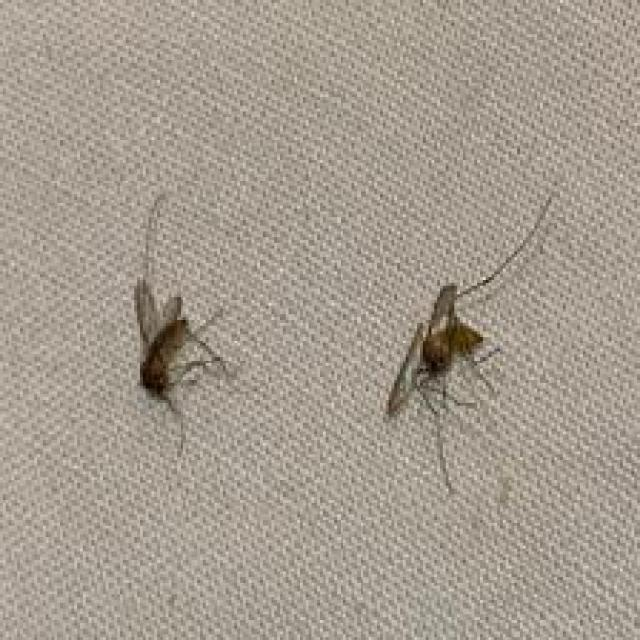Culex: (383, 190, 557, 496)
